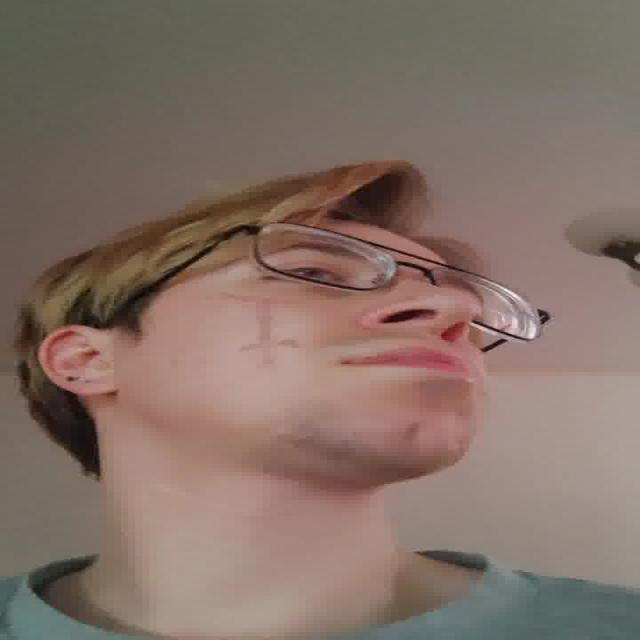earlobe: (59, 375, 122, 397)
eye: (252, 259, 352, 287)
nose: (359, 308, 476, 356)
wholeear: (36, 322, 122, 399)
